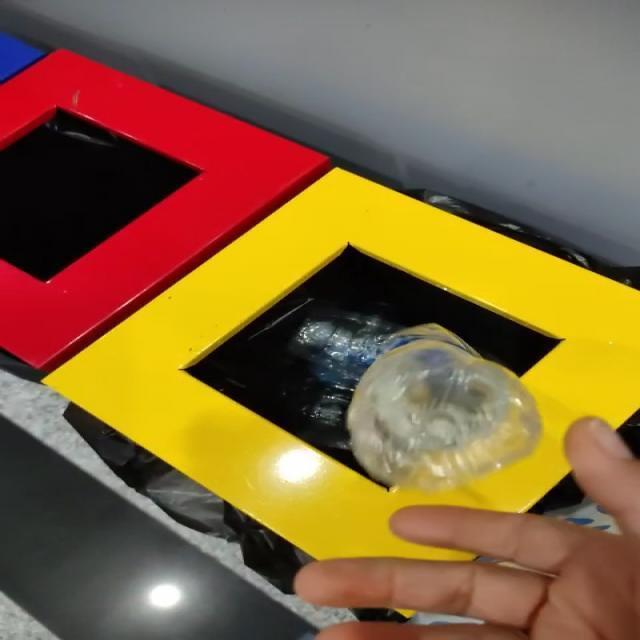Plastic: (347, 341, 541, 492)
